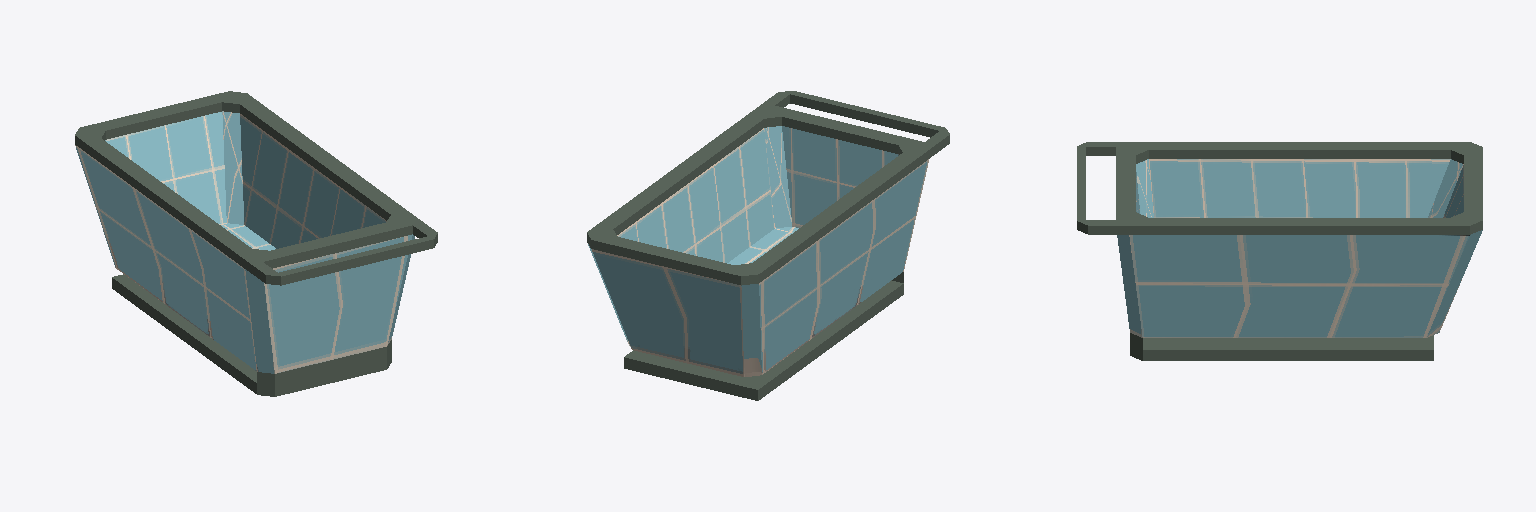
The picture shows the model from 3 angles: view 1: azimuth 30°, elevation 25°; view 2: azimuth 150°, elevation 25°; view 3: azimuth 270°, elevation 25°; orthographic projection.
Visible parts, largest first — view 1: Plane; view 2: Plane; view 3: Plane.
Part boxes in pixels (bbox=[...]): Plane: bbox=[75, 91, 437, 396]; Plane: bbox=[587, 91, 949, 400]; Plane: bbox=[1077, 142, 1482, 360].
Size of the model in its own units: 2.56 by 2.06 by 5.24.
Materials: 1 (1 with a texture image).